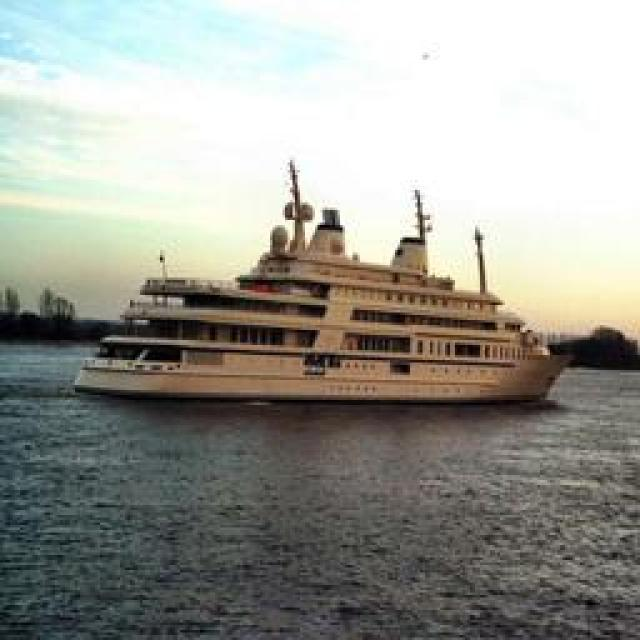ship2: (72, 160, 572, 405)
